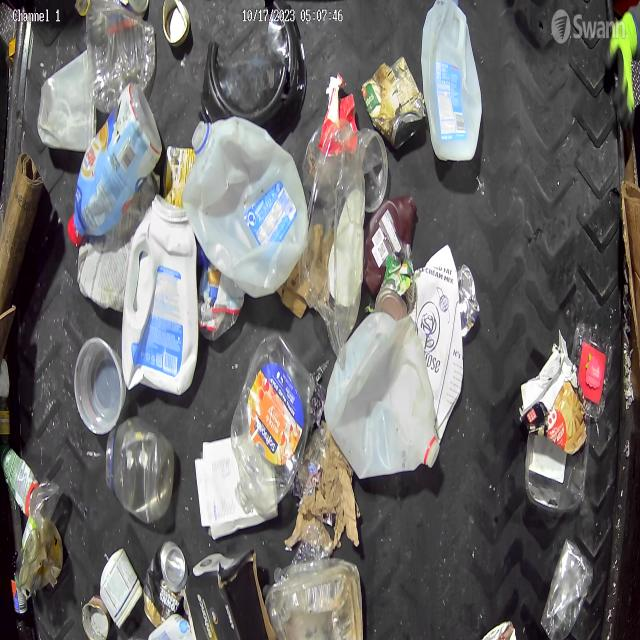can: (361, 56, 424, 150), (143, 540, 187, 628), (374, 243, 416, 321), (458, 262, 480, 340), (163, 0, 192, 47), (80, 598, 110, 640)
milk_jug: (190, 112, 312, 296), (325, 309, 437, 481), (122, 193, 199, 391), (422, 2, 482, 162)
non_white_jug: (362, 193, 418, 296)
